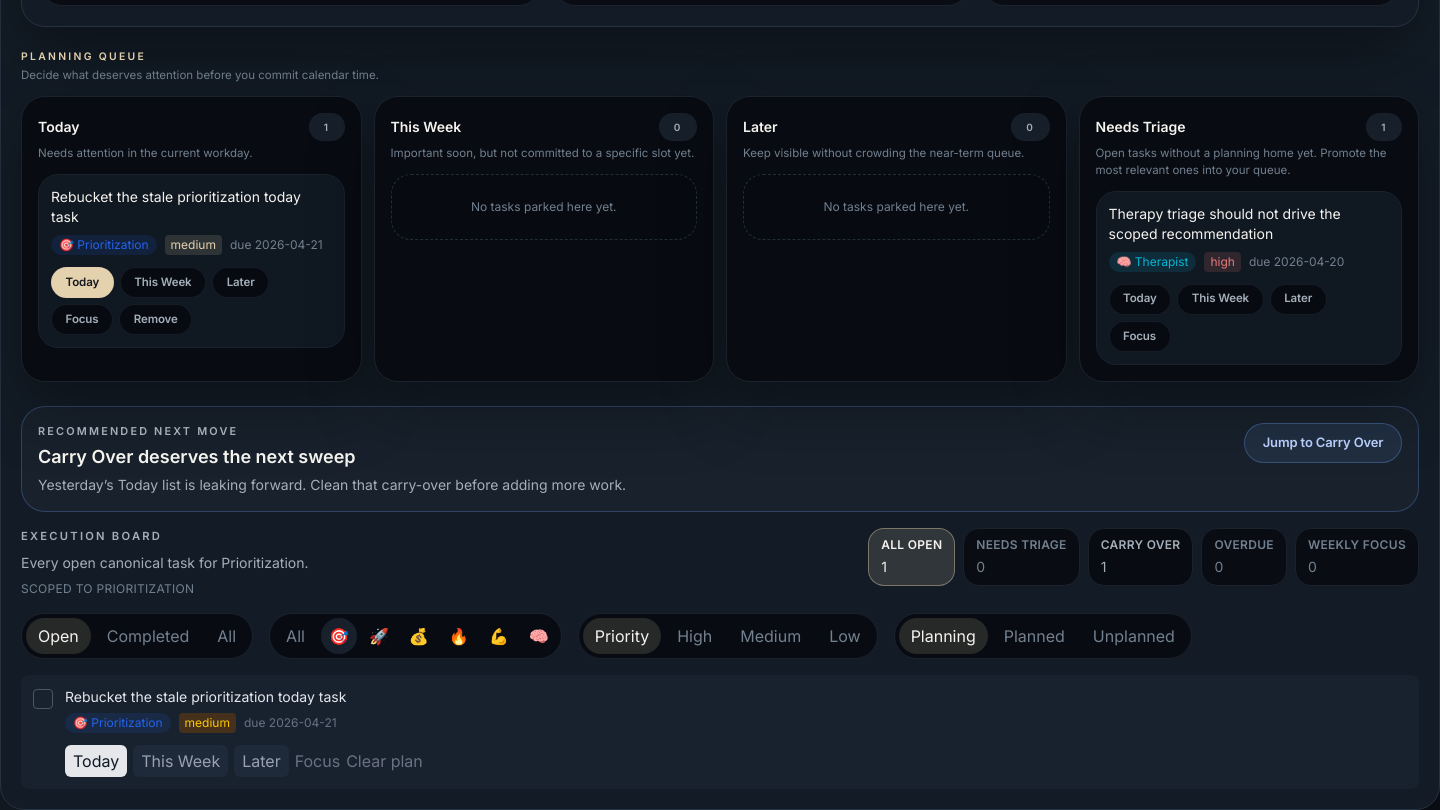
Scenario: TaskDashboard › derives the recommended next move from the active advisor scope
The image size is (1440, 810).
(page scrolled)
Expected: the heading "Carry Over deserves the next sweep" is shown, x1=38 y1=446 x2=356 y2=467
Click the button "Jump to Carry Over" at (1323, 443), box x1=1244 y1=423 x2=1402 y2=463
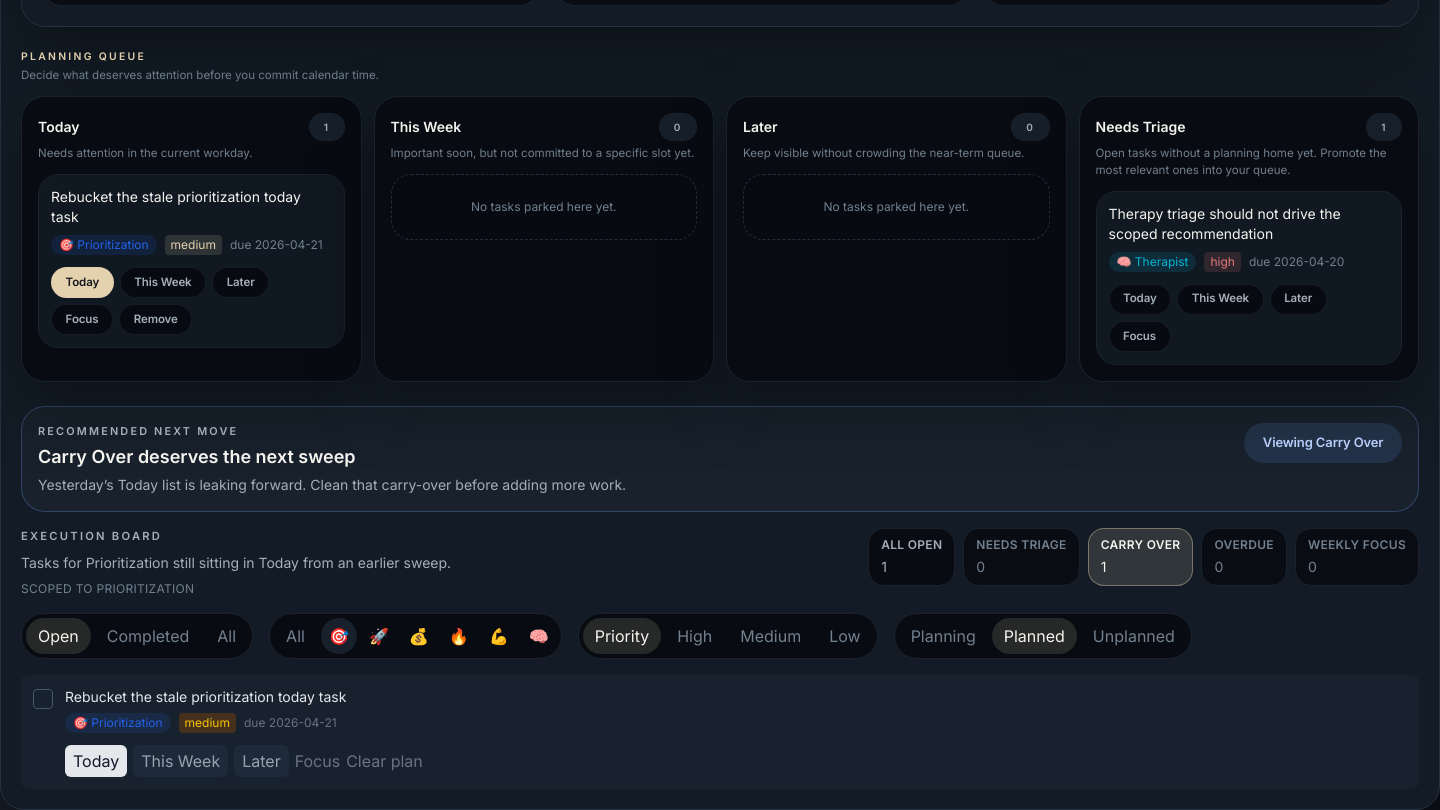
Expected: the text "Scoped to Prioritization" is shown, x1=21 y1=581 x2=194 y2=596
Expected: the text "Tasks for Prioritization still sitting in Today from an earlier sweep." is shown, x1=21 y1=553 x2=451 y2=573
